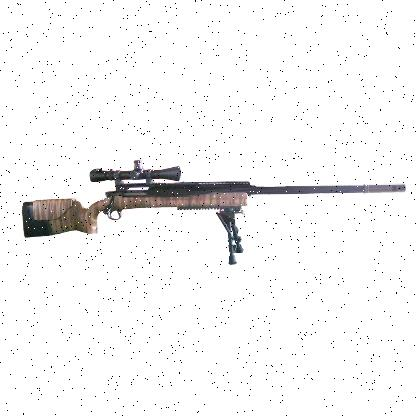gun: (22, 158, 405, 263)
